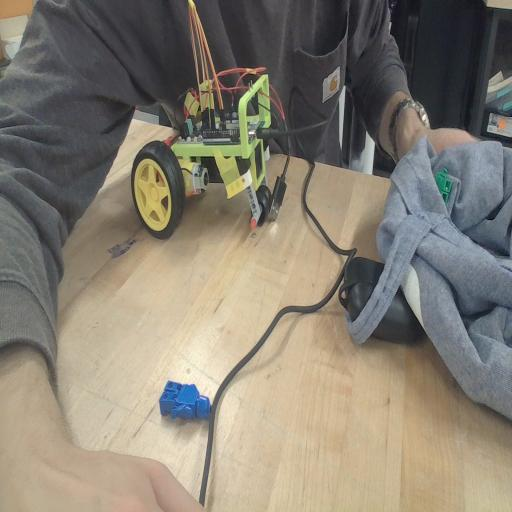blue LEGO minifig: (157, 376, 214, 427)
green LEGO minifig: (433, 164, 454, 201)
